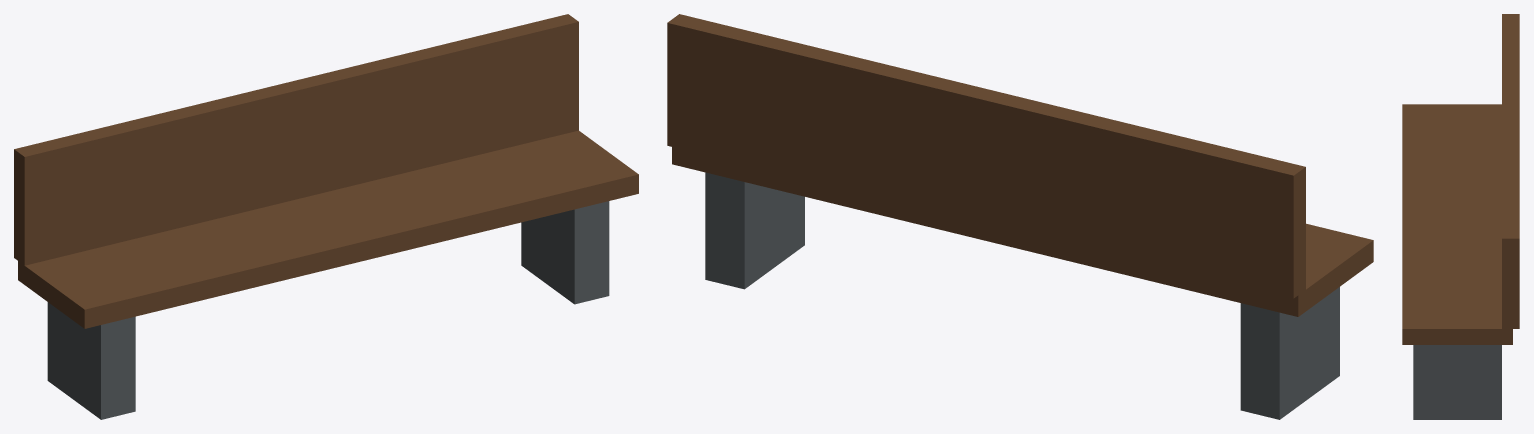
The model's file is square-bench.glb.
3 views of the same model, side by side, from view 1: azimuth 30°, elevation 25°; view 2: azimuth 150°, elevation 25°; view 3: azimuth 270°, elevation 25° (orthographic). The views are drawn at different scales.
Parts seen in each view (by area): view 1: square-bench; view 2: square-bench; view 3: square-bench.
Part boxes in pixels (<box>): square-bench: <box>14,14,638,419</box>; square-bench: <box>667,14,1373,419</box>; square-bench: <box>1402,14,1519,419</box>.
Size of the model in its own units: 2.4 by 0.95 by 0.53.
